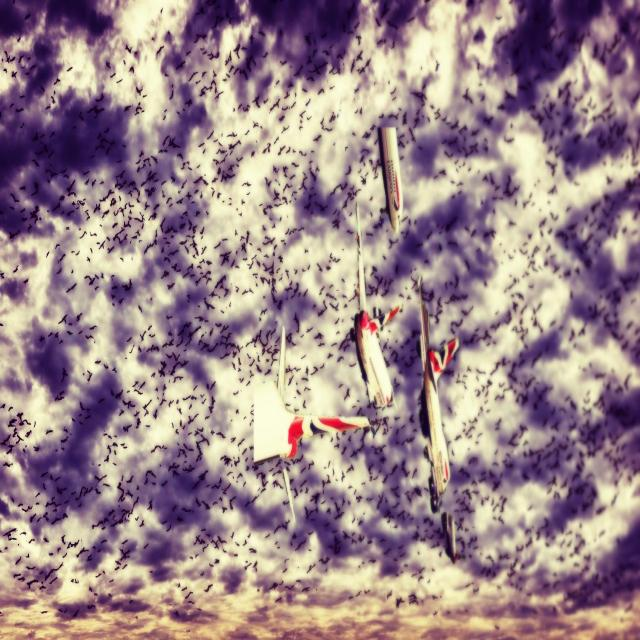airplane: (252, 325, 371, 524), (352, 202, 401, 410), (417, 284, 459, 503), (379, 123, 403, 233)
